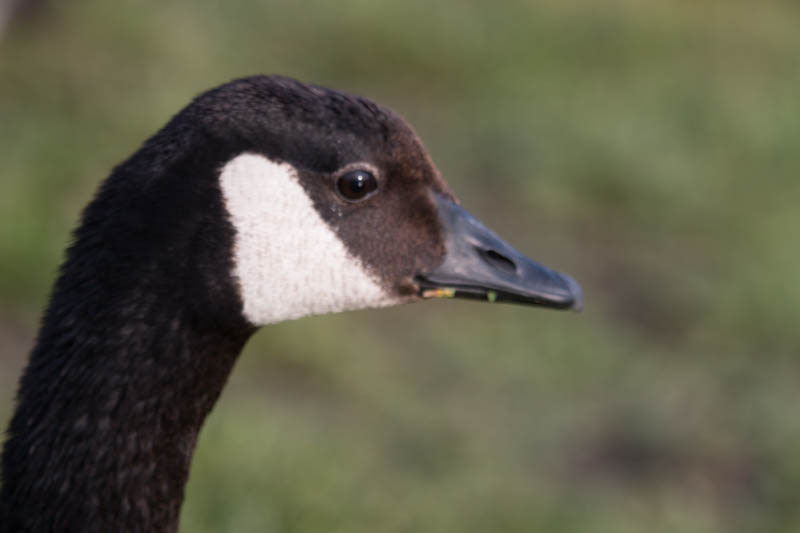goose-head: (138, 73, 584, 330)
